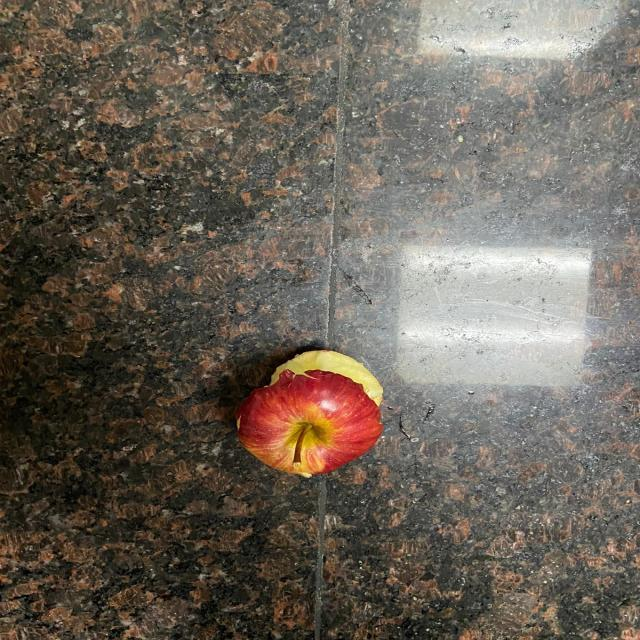apple: (233, 345, 389, 481)
